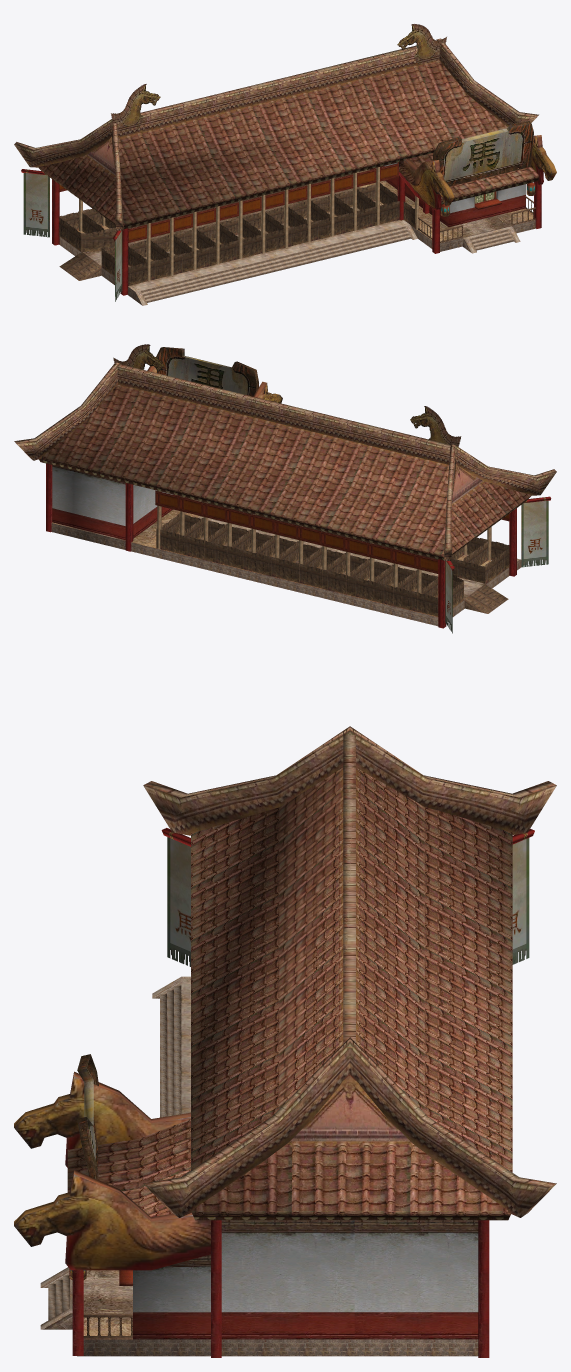
The model's file is cj_stab.glb.
3 views of the same model, one above another, from view 1: azimuth 30°, elevation 25°; view 2: azimuth 150°, elevation 25°; view 3: azimuth 270°, elevation 25° (orthographic). The views are drawn at different scales.
Visible parts, largest first — view 1: CJ_stab_roof, CJ_stab_sign, CJ_stab_gidung, CJ_stab_roof01, CJ_stab_floor, CJ_stab_flag, CJ_stab_window; view 2: CJ_stab_roof, CJ_stab_sign, CJ_stab_gidung, CJ_stab_roof01, CJ_stab_flag, CJ_stab_floor; view 3: CJ_stab_roof, CJ_stab_gidung, CJ_stab_flag, CJ_stab_floor, CJ_stab_sign.
Boxes of the visible parts, x1,y1,x2,y2 form: CJ_stab_roof: [14, 38, 538, 305]; CJ_stab_sign: [59, 24, 535, 285]; CJ_stab_gidung: [21, 135, 556, 305]; CJ_stab_roof01: [59, 163, 398, 242]; CJ_stab_floor: [77, 169, 534, 266]; CJ_stab_flag: [23, 172, 122, 301]; CJ_stab_window: [440, 182, 535, 216]; CJ_stab_roof: [14, 362, 556, 561]; CJ_stab_sign: [113, 344, 509, 616]; CJ_stab_gidung: [46, 366, 551, 628]; CJ_stab_roof01: [155, 490, 509, 573]; CJ_stab_flag: [445, 500, 548, 633]; CJ_stab_floor: [52, 498, 491, 617]; CJ_stab_roof: [40, 726, 556, 1329]; CJ_stab_gidung: [14, 828, 534, 1357]; CJ_stab_flag: [167, 837, 529, 966]; CJ_stab_floor: [83, 1270, 132, 1339]; CJ_stab_sign: [77, 1054, 132, 1338].
Size of the model in its own units: 46.43 by 18.38 by 26.17.
8 materials, 8 textured.
